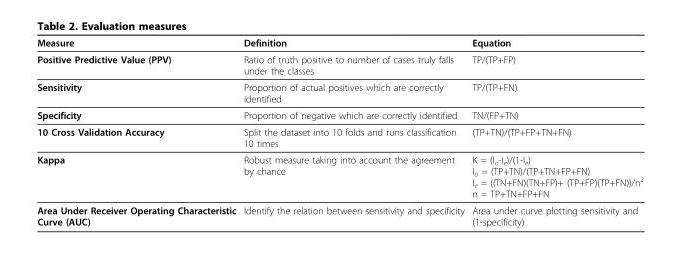table: (36, 36, 642, 226)
table column: (239, 36, 467, 226), (36, 36, 239, 226), (467, 36, 642, 226)
table column header: (36, 36, 642, 50)
table row: (36, 151, 642, 201), (36, 50, 642, 78), (36, 78, 642, 106), (36, 123, 642, 151), (36, 201, 642, 226), (36, 106, 642, 123), (36, 36, 642, 50)
